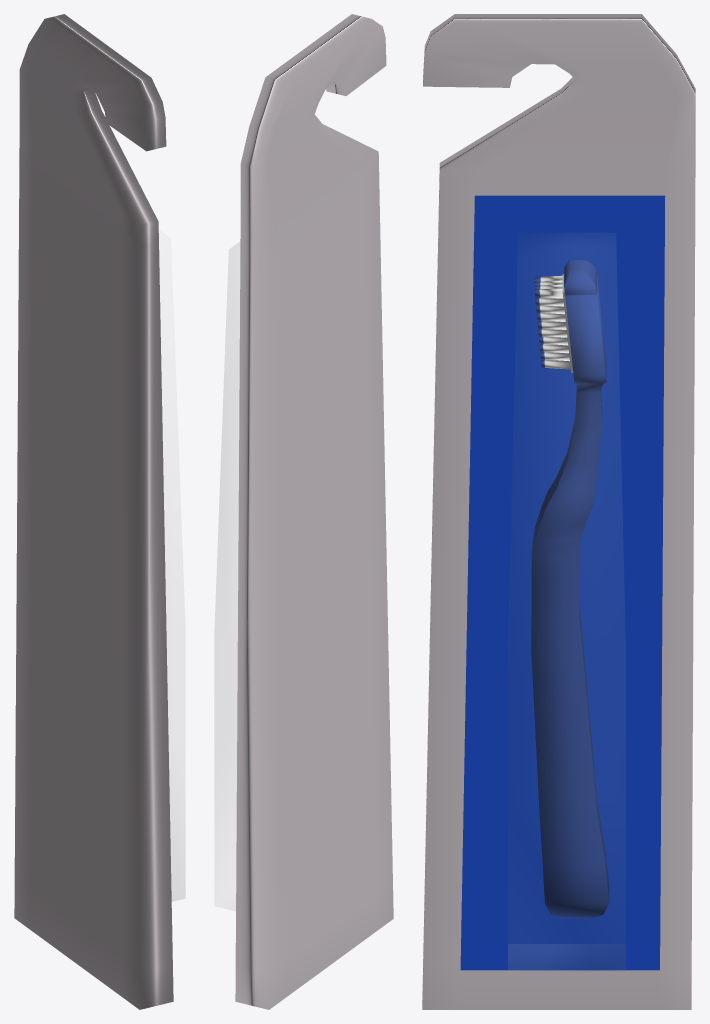
File: cepilloAZUL.fbx
3 renders of one model, left to right at view 1: azimuth 30°, elevation 25°; view 2: azimuth 150°, elevation 25°; view 3: azimuth 270°, elevation 25°, orthographic. The views are drawn at different scales.
Parts seen in each view (by area): view 1: tabla, envase; view 2: tabla, envase; view 3: tabla, cepillo, envase.
Boxes of the visible parts, x1=… form: tabla: x1=14, y1=14, x2=173, y2=1009; envase: x1=159, y1=230, x2=184, y2=901; tabla: x1=235, y1=14, x2=393, y2=1009; envase: x1=215, y1=242, x2=239, y2=910; tabla: x1=422, y1=14, x2=695, y2=1009; cepillo: x1=531, y1=260, x2=609, y2=918; envase: x1=508, y1=944, x2=625, y2=970.
Bounding box in the file's own units: 16.48 × 168 × 42.38.
